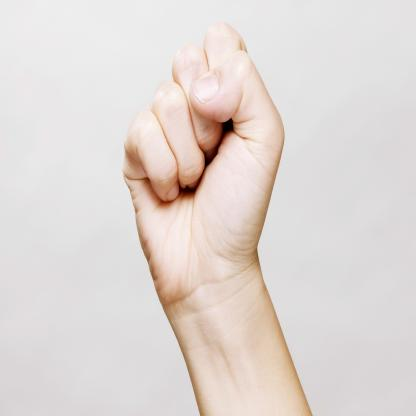fist: (90, 13, 294, 328)
